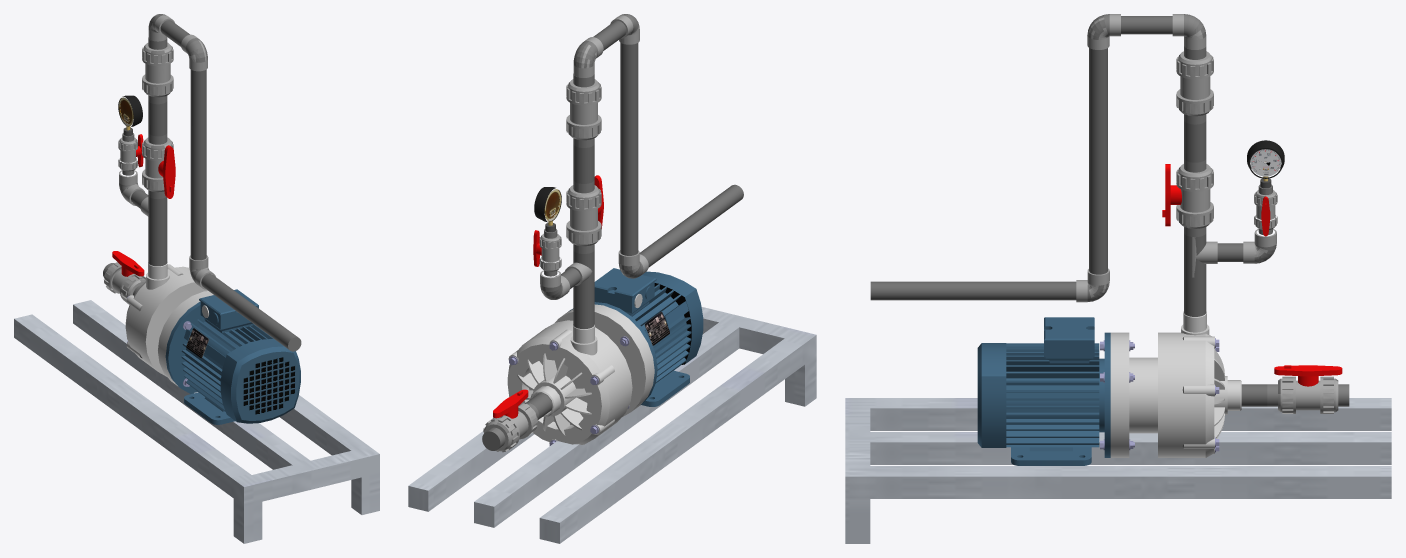
The model's file is stage6_4.glb.
3 renders of one model, left to right at view 1: azimuth 30°, elevation 25°; view 2: azimuth 150°, elevation 25°; view 3: azimuth 270°, elevation 25°, orthographic. The views are drawn at different scales.
Parts seen in each view (by area): view 1: object 56, Component#34, object 1, Component#28, valvula500.1abierta#5 (×3), Component#37, valvula500.1abierta#4, codo500#1 (×3), Component#35, object 49, Component#39, h (+2 smaller); view 2: object 56, Component#28, object 1, valvula500.1abierta#5 (×3), codo500#1 (×4), Component#37, valvula500.1abierta#4, Component#39, Component#34, object 49, h, object 2 (+3 smaller); view 3: object 56, Component#28, object 1, Component#37, valvula500.1abierta#5 (×3), codo500#1 (×4), Component#34, valvula500.1abierta#4, Component#39, object 49, h, Component#35 (+2 smaller).
Boxes of the visible parts, left/top/right/bottom form: object 56: left=14, top=300, right=379, bottom=543; Component#34: left=220, top=339, right=300, bottom=423; object 1: left=160, top=20, right=301, bottom=351; Component#28: left=125, top=266, right=213, bottom=385; valvula500.1abierta#5 (×3): left=103, top=133, right=175, bottom=302; Component#37: left=181, top=318, right=273, bottom=411; valvula500.1abierta#4: left=142, top=37, right=173, bottom=104; codo500#1 (×3): left=119, top=34, right=215, bottom=289; Component#35: left=165, top=301, right=204, bottom=393; object 49: left=148, top=195, right=167, bottom=266; Component#39: left=199, top=289, right=258, bottom=333; h: left=184, top=392, right=235, bottom=424; object 56: left=408, top=307, right=816, bottom=543; Component#28: left=507, top=304, right=654, bottom=444; object 1: left=593, top=21, right=743, bottom=267; valvula500.1abierta#5 (×3): left=482, top=175, right=603, bottom=452; codo500#1 (×4): left=540, top=14, right=648, bottom=299; Component#37: left=632, top=284, right=691, bottom=383; valvula500.1abierta#4: left=566, top=73, right=601, bottom=147; Component#39: left=594, top=268, right=656, bottom=316; Component#34: left=642, top=271, right=703, bottom=364; object 49: left=573, top=250, right=594, bottom=328; h: left=641, top=370, right=689, bottom=406; object 2: left=573, top=144, right=594, bottom=183; object 56: left=845, top=398, right=1391, bottom=543; Component#28: left=1110, top=332, right=1227, bottom=457; object 1: left=870, top=16, right=1172, bottom=300; Component#37: left=1006, top=343, right=1099, bottom=447; valvula500.1abierta#5 (×3): left=1162, top=159, right=1349, bottom=413; codo500#1 (×4): left=1076, top=14, right=1276, bottom=302; Component#34: left=977, top=343, right=1006, bottom=447; valvula500.1abierta#4: left=1176, top=46, right=1213, bottom=124; Component#39: left=1044, top=317, right=1094, bottom=363; object 49: left=1184, top=233, right=1206, bottom=316; h: left=1011, top=447, right=1091, bottom=465; Component#35: left=1099, top=332, right=1110, bottom=457.
Bounding box in the file's own units: 0.3 × 0.8643 × 0.8805.
Materials: 18 (7 with a texture image).
